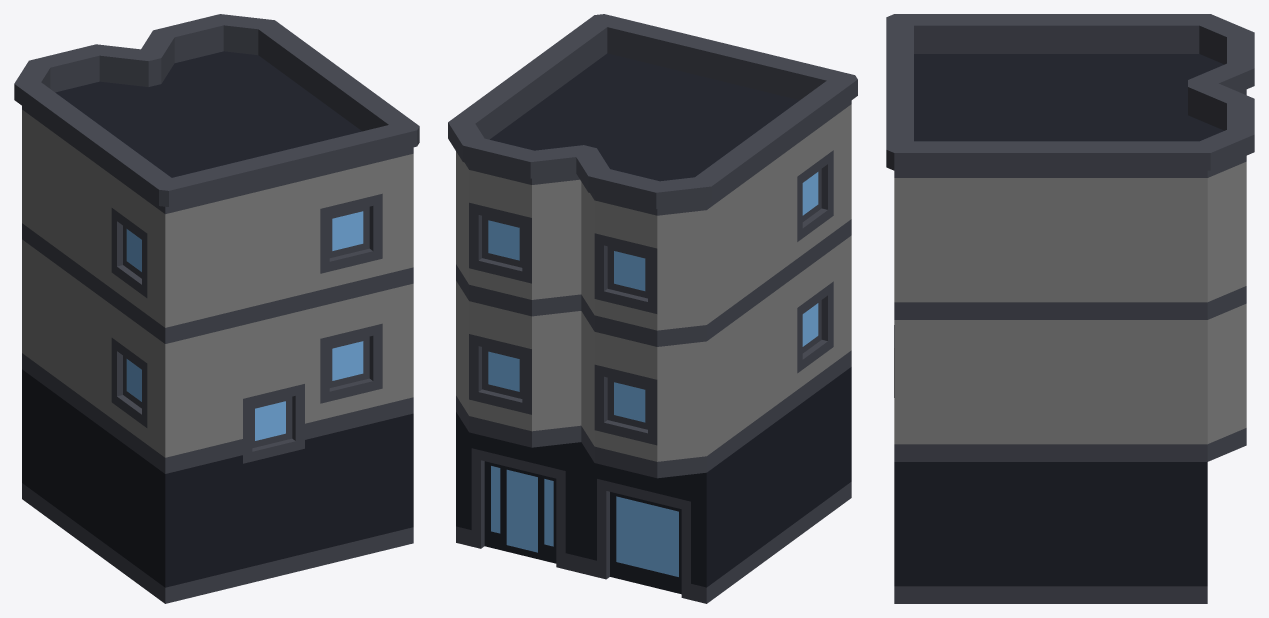
The model's file is variant_14.obj.
3 renders of one model, left to right at view 1: azimuth 30°, elevation 25°; view 2: azimuth 150°, elevation 25°; view 3: azimuth 270°, elevation 25°, orthographic. The views are drawn at different scales.
Parts seen in each view (by area): view 1: Building_copy, Window_copy; view 2: Building_copy; view 3: Building_copy.
Part boxes in pixels (x1,y1,x2,y2): Building_copy: (14,14,419,603); Window_copy: (243,384,304,463); Building_copy: (448,14,857,603); Building_copy: (886,14,1254,603).
Size of the model in its own units: 0.84 by 1.28 by 0.94.
